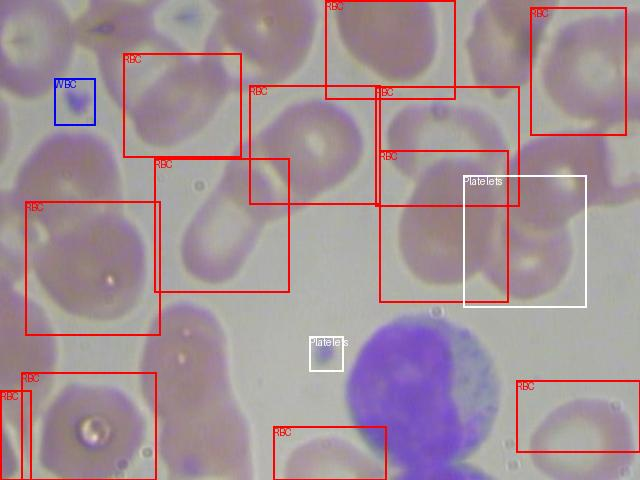Platelets: (463, 175, 586, 307), (309, 336, 343, 371)
RBC: (379, 150, 508, 302), (154, 158, 289, 292), (25, 201, 160, 335), (375, 86, 519, 206), (249, 85, 380, 204), (21, 372, 156, 480), (325, 0, 455, 99), (530, 7, 626, 135), (123, 53, 241, 157), (516, 380, 640, 452), (273, 426, 386, 480), (0, 390, 31, 480)
WBC: (54, 78, 95, 125)
